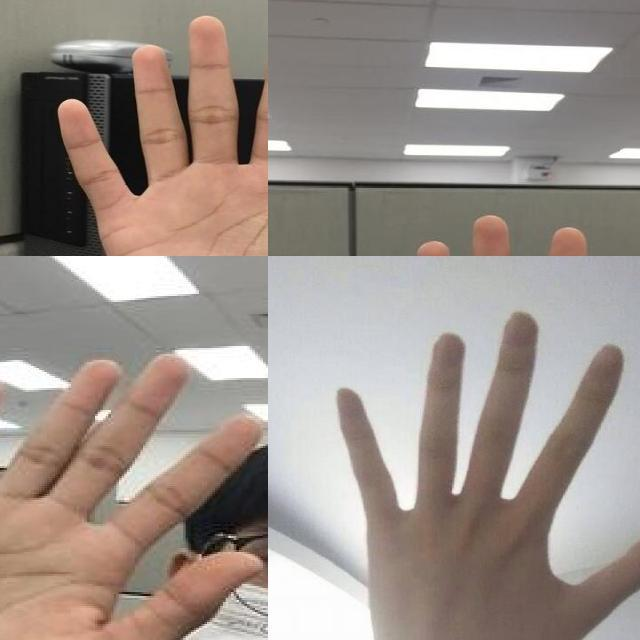hand: (334, 311, 640, 640), (0, 354, 263, 640), (55, 13, 268, 256)
